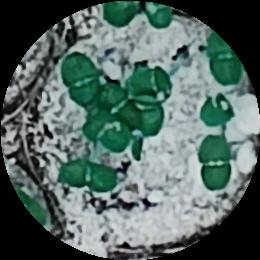Basil: (206, 30, 244, 87), (63, 158, 117, 197), (95, 83, 139, 127), (59, 55, 95, 107), (86, 113, 130, 155), (134, 87, 166, 139), (202, 134, 229, 192), (129, 66, 172, 98), (197, 93, 232, 129)
